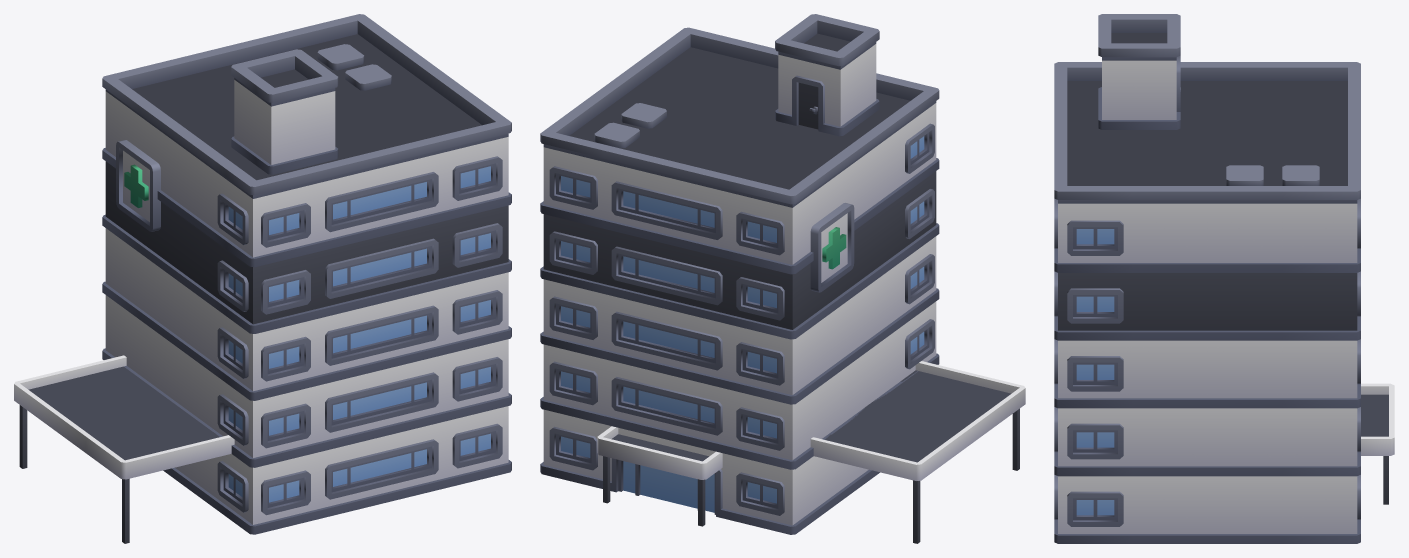
The model's file is city_13.fbx.
The picture shows the model from 3 angles, left to right: view 1: azimuth 30°, elevation 25°; view 2: azimuth 150°, elevation 25°; view 3: azimuth 270°, elevation 25°; orthographic projection. The views are drawn at different scales.
Parts seen in each view (by area): view 1: city_13; view 2: city_13; view 3: city_13.
Boxes of the visible parts, x1=… form: city_13: x1=14, y1=14, x2=511, y2=543; city_13: x1=540, y1=14, x2=1025, y2=543; city_13: x1=1054, y1=14, x2=1394, y2=543.
Bounding box in the file's own units: 2.32 × 2.48 × 1.82.
Materials: 1 (1 with a texture image).
